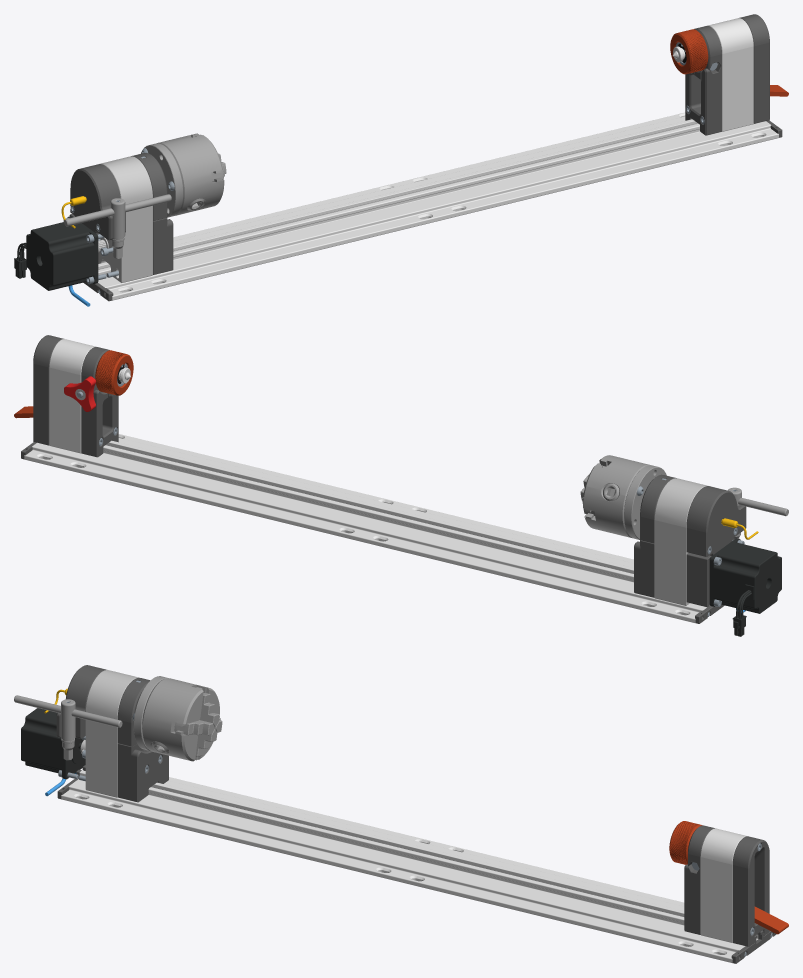
The model's file is vortex.glb.
3 views of the same model, one above another, from view 1: azimuth 30°, elevation 25°; view 2: azimuth 150°, elevation 25°; view 3: azimuth 330°, elevation 25° (orthographic).
Visible parts, largest first — view 1: Track, NEMA 23, Headstock Body, Tailstock Body, Chuck Housing, Tailstock Front Cover, Headstock Rear Cover - Top, Tailstock Rear Cover, Live Center Shaft, Chuck Backplate, Headstock Front Cover - Bottom, Headstock Front Cover - Top (+2 smaller); view 2: Track, NEMA 23, Headstock Body, Tailstock Body, Headstock Rear Cover - Top, Chuck Housing, Tailstock Front Cover, Tailstock Rear Cover, Chuck Backplate, Live Center Shaft, Headstock Motor Standoff, Headstock Front Cover - Bottom (+2 smaller); view 3: Track, Chuck Housing, Headstock Body, Tailstock Body, Tailstock Rear Cover, NEMA 23, Headstock Front Cover - Bottom, Tailstock Front Cover, Headstock Rear Cover - Top, Headstock Front Cover - Top, Live Center Shaft, Chuck Key Handle (+2 smaller).
Boxes of the visible parts, left/top/right/bottom form: Track: left=98, top=112, right=778, bottom=300; NEMA 23: left=14, top=216, right=98, bottom=290; Headstock Body: left=98, top=156, right=152, bottom=282; Tailstock Body: left=708, top=18, right=753, bottom=131; Chuck Housing: left=157, top=133, right=224, bottom=215; Tailstock Front Cover: left=685, top=25, right=721, bottom=135; Headstock Rear Cover - Top: left=70, top=164, right=125, bottom=240; Tailstock Rear Cover: left=739, top=14, right=769, bottom=123; Live Center Shaft: left=670, top=29, right=708, bottom=74; Chuck Backplate: left=141, top=143, right=183, bottom=217; Headstock Front Cover - Bottom: left=153, top=218, right=173, bottom=274; Headstock Front Cover - Top: left=131, top=153, right=167, bottom=220; Track: left=24, top=434, right=706, bottom=623; NEMA 23: left=709, top=538, right=781, bottom=636; Headstock Body: left=654, top=478, right=707, bottom=605; Tailstock Body: left=49, top=339, right=95, bottom=453; Headstock Rear Cover - Top: left=686, top=486, right=746, bottom=556; Chuck Housing: left=583, top=455, right=650, bottom=538; Tailstock Front Cover: left=81, top=347, right=118, bottom=457; Tailstock Rear Cover: left=33, top=335, right=63, bottom=445; Chuck Backplate: left=624, top=465, right=666, bottom=539; Live Center Shaft: left=95, top=350, right=133, bottom=395; Headstock Motor Standoff: left=686, top=553, right=711, bottom=607; Headstock Front Cover - Bottom: left=634, top=540, right=654, bottom=597; Track: left=61, top=770, right=758, bottom=962; Chuck Housing: left=142, top=678, right=219, bottom=761; Headstock Body: left=85, top=670, right=138, bottom=797; Tailstock Body: left=700, top=828, right=747, bottom=942; Tailstock Rear Cover: left=732, top=836, right=769, bottom=946; NEMA 23: left=21, top=708, right=85, bottom=779; Headstock Front Cover - Bottom: left=117, top=743, right=168, bottom=802; Tailstock Front Cover: left=684, top=825, right=714, bottom=934; Headstock Rear Cover - Top: left=56, top=665, right=106, bottom=738; Headstock Front Cover - Top: left=117, top=677, right=150, bottom=746; Live Center Shaft: left=669, top=821, right=702, bottom=864; Chuck Key Handle: left=14, top=695, right=122, bottom=727.
Bounding box in the file's own units: 0.8936 × 0.1428 × 0.112.
